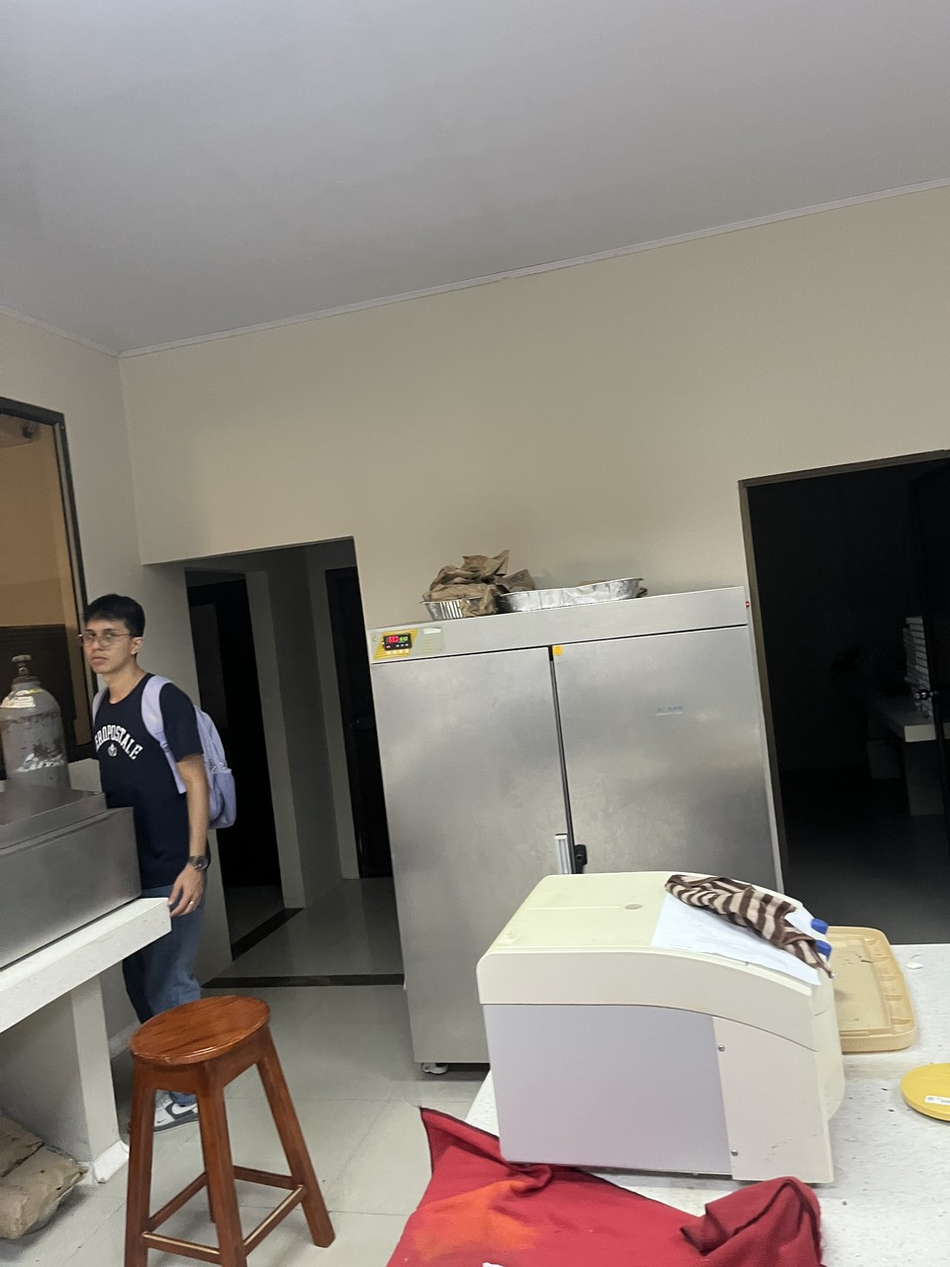ankom_estufa: (348, 561, 801, 1086)
